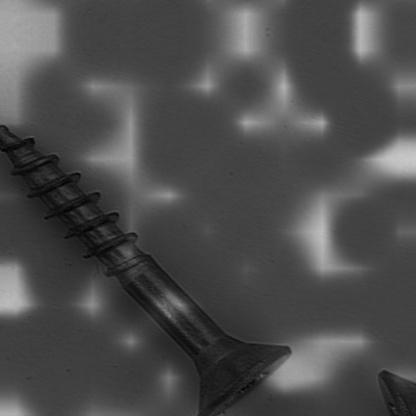metal: (0, 124, 292, 416)
